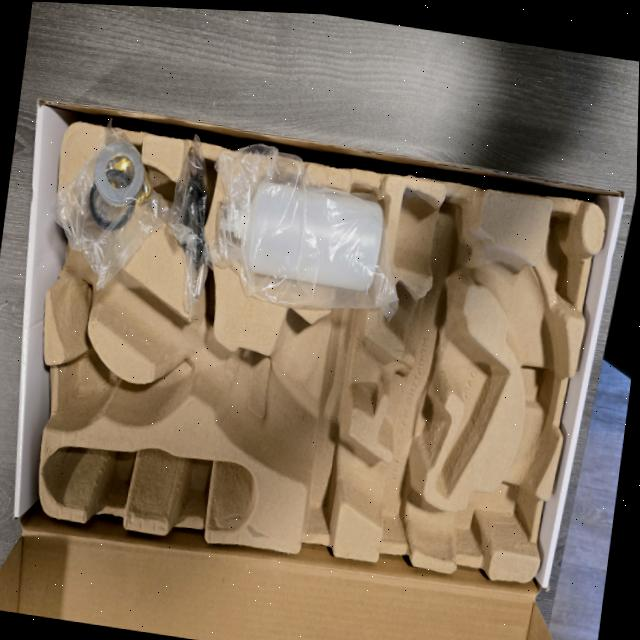1m: (44, 187, 569, 555)
2m: (384, 283, 507, 497)
3: (218, 180, 382, 288)
4m: (41, 447, 259, 529)
5m: (63, 349, 113, 416)
6: (46, 117, 171, 297)
7: (165, 134, 209, 317)
